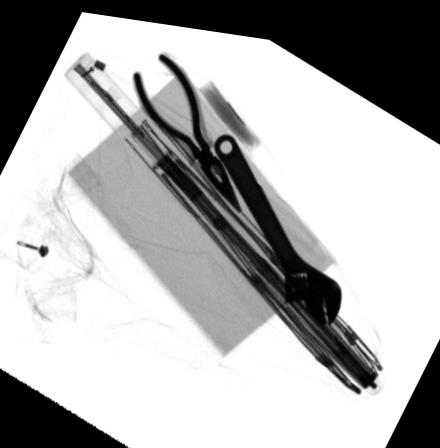Pliers: (130, 45, 246, 208)
Wrench: (213, 124, 345, 318)
